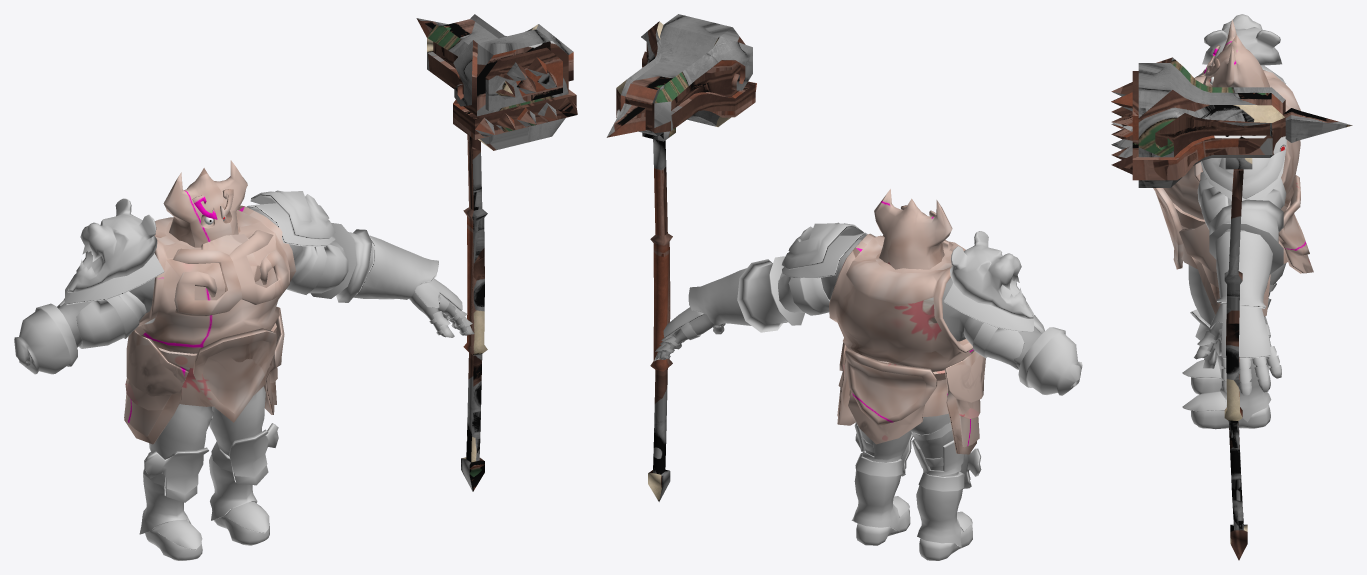
File: GoldValderheim.fbx
The picture shows the model from 3 angles, left to right: view 1: azimuth 30°, elevation 25°; view 2: azimuth 150°, elevation 25°; view 3: azimuth 270°, elevation 25°; orthographic projection. The views are drawn at different scales.
Visible parts, largest first — view 1: ValdGoldTorso, ValdGoldArms2, ValdGoldOogie, ValdGoldLegs, ValdGoldHelm, ValdGoldUnderBody; view 2: ValdGoldTorso, ValdGoldArms2, ValdGoldOogie, ValdGoldLegs, ValdGoldHelm, ValdGoldUnderBody; view 3: ValdGoldOogie, ValdGoldArms2, ValdGoldTorso, ValdGoldLegs, ValdGoldHelm, ValdGoldUnderBody.
Boxes of the visible parts, x1,y1,x2,y2 form: ValdGoldTorso: (124,205,295,444); ValdGoldArms2: (14,190,474,374); ValdGoldOogie: (416,14,577,491); ValdGoldLegs: (139,386,278,560); ValdGoldHelm: (163,160,247,247); ValdGoldUnderBody: (58,209,468,456); ValdGoldTorso: (829,233,985,454); ValdGoldArms2: (654,222,1082,395); ValdGoldOogie: (606,14,756,501); ValdGoldLegs: (851,422,981,560); ValdGoldHelm: (874,189,952,269); ValdGoldUnderBody: (661,239,1042,476); ValdGoldOogie: (1111,57,1352,560); ValdGoldArms2: (1194,14,1286,395); ValdGoldTorso: (1153,69,1313,316); ValdGoldLegs: (1182,265,1276,429); ValdGoldHelm: (1203,19,1269,87); ValdGoldUnderBody: (1202,169,1286,380).
Bounding box in the file's own units: 16.49 × 15.14 × 6.81.
